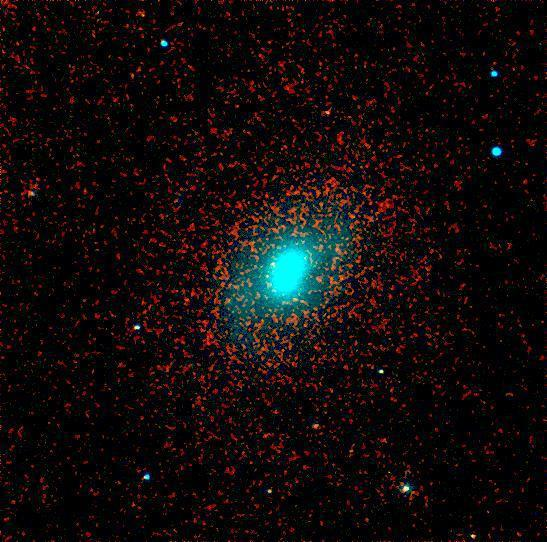star: (210, 285, 240, 315)
